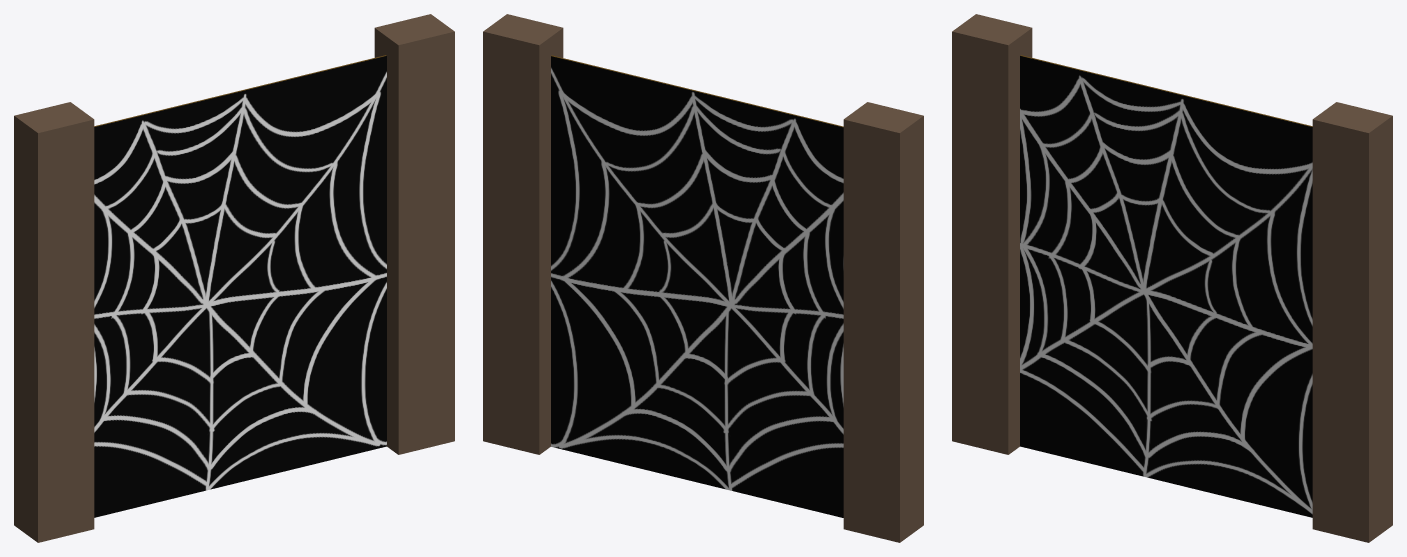
The model's file is telaaraña.FBX.
3 renders of one model, left to right at view 1: azimuth 30°, elevation 25°; view 2: azimuth 150°, elevation 25°; view 3: azimuth 330°, elevation 25°, orthographic.
Visible parts, largest first — view 1: Box003, Box001; view 2: Box003, Box001; view 3: Box003, Box001.
Boxes of the visible parts, x1,y1,x2,y2 form: Box003: [94, 55, 386, 517]; Box001: [14, 14, 454, 542]; Box003: [551, 55, 843, 517]; Box001: [483, 14, 923, 542]; Box003: [1020, 55, 1312, 517]; Box001: [952, 14, 1392, 542].
Size of the model in its own units: 76.67 by 72.03 by 7.64.
Materials: 2 (1 with a texture image).
